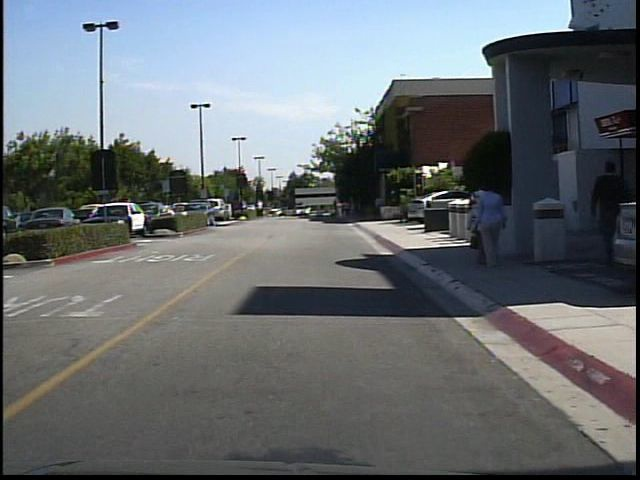person: (586, 154, 627, 267), (474, 179, 507, 269), (467, 180, 488, 269), (333, 198, 347, 223), (256, 197, 268, 221)
